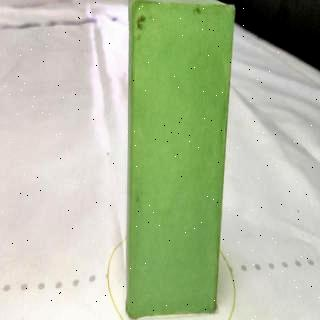greenbox: (126, 0, 237, 320)
